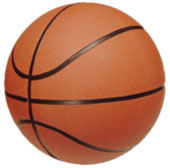basketball: (4, 2, 165, 164)
